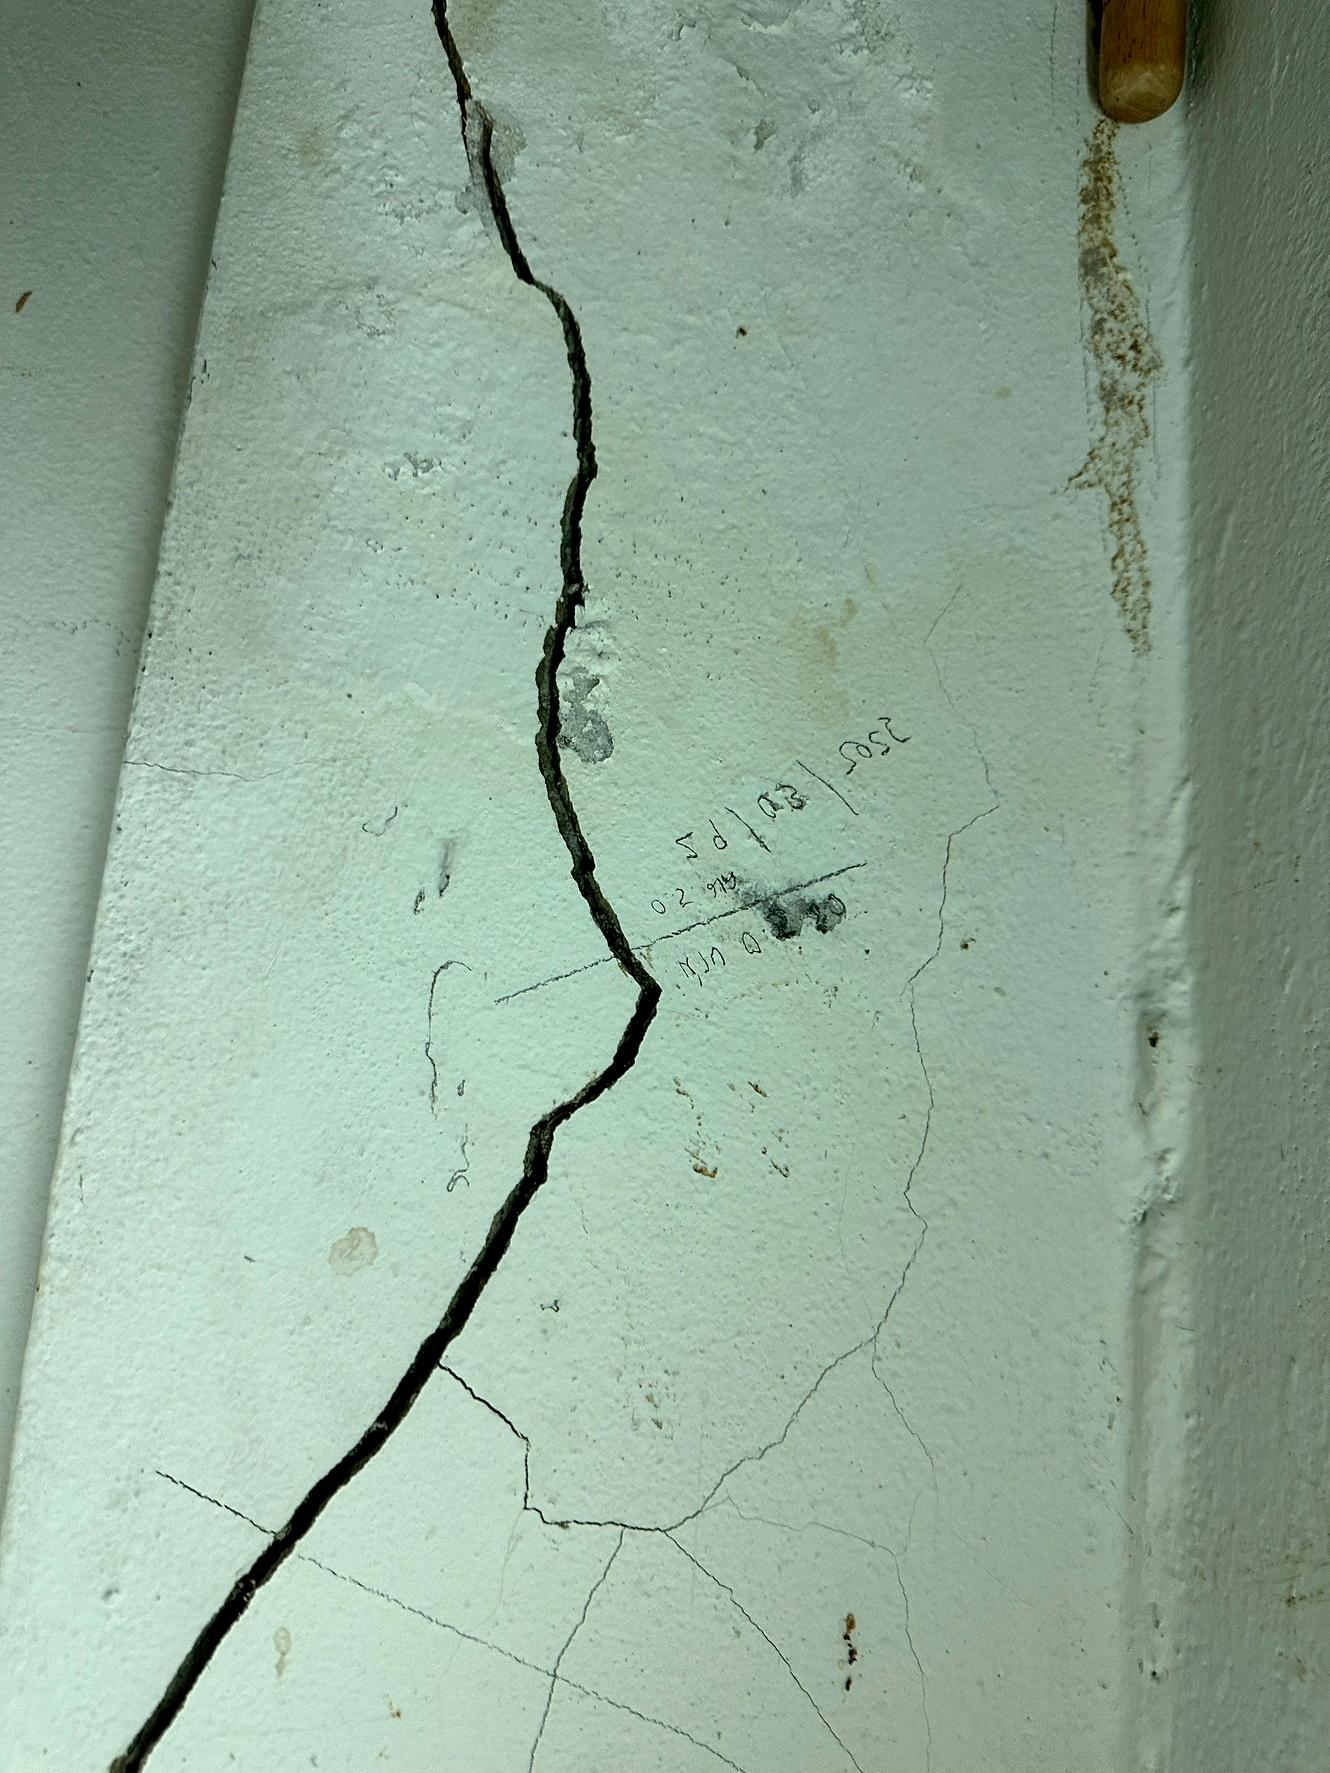High: (73, 1, 718, 1772)
